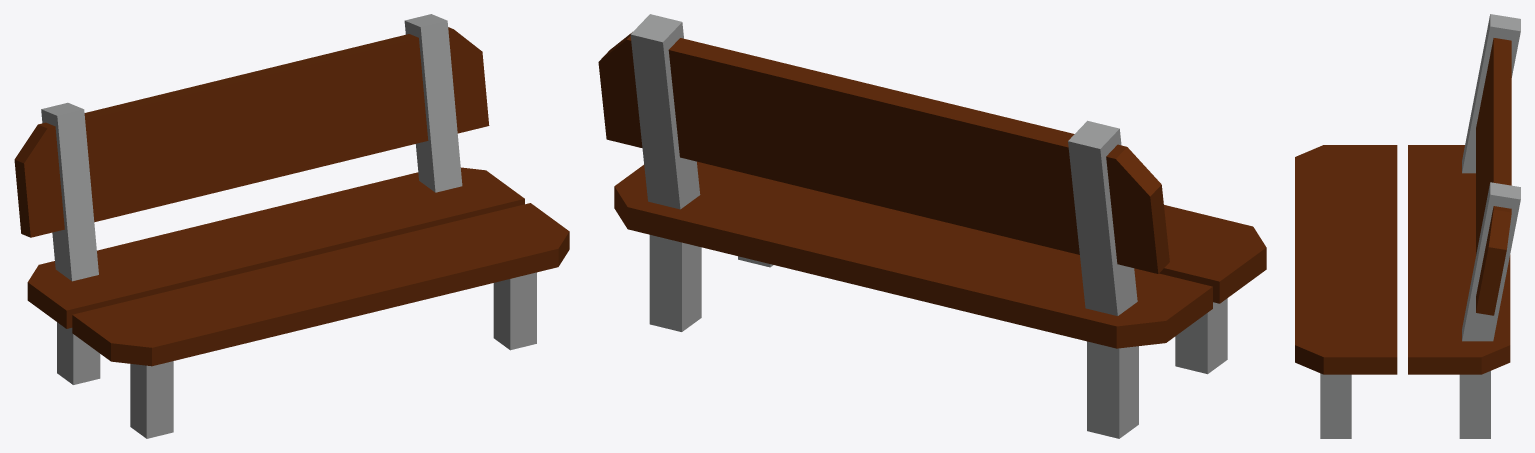
The model's file is Bench 1 Fractured.fbx.
3 renders of one model, left to right at view 1: azimuth 30°, elevation 25°; view 2: azimuth 150°, elevation 25°; view 3: azimuth 270°, elevation 25°, orthographic. The views are drawn at different scales.
Visible parts, largest first — view 1: Bench_01_Breaking.001, Bench_01_Breaking, Bench_01_Breaking.002; view 2: Bench_01_Breaking.001, Bench_01_Breaking, Bench_01_Breaking.002; view 3: Bench_01_Breaking.002, Bench_01_Breaking, Bench_01_Breaking.001.
Part boxes in pixels (bbox=[...]): Bench_01_Breaking.001: bbox=[14, 27, 489, 237]; Bench_01_Breaking: bbox=[27, 102, 320, 438]; Bench_01_Breaking.002: bbox=[290, 14, 569, 350]; Bench_01_Breaking.001: bbox=[598, 32, 1169, 273]; Bench_01_Breaking: bbox=[815, 120, 1266, 438]; Bench_01_Breaking.002: bbox=[614, 14, 924, 331]; Bench_01_Breaking.002: bbox=[1295, 182, 1520, 438]; Bench_01_Breaking: bbox=[1295, 14, 1520, 272]; Bench_01_Breaking.001: bbox=[1476, 38, 1511, 315].
Bounding box in the file's own units: 124 × 66.79 × 55.95.
